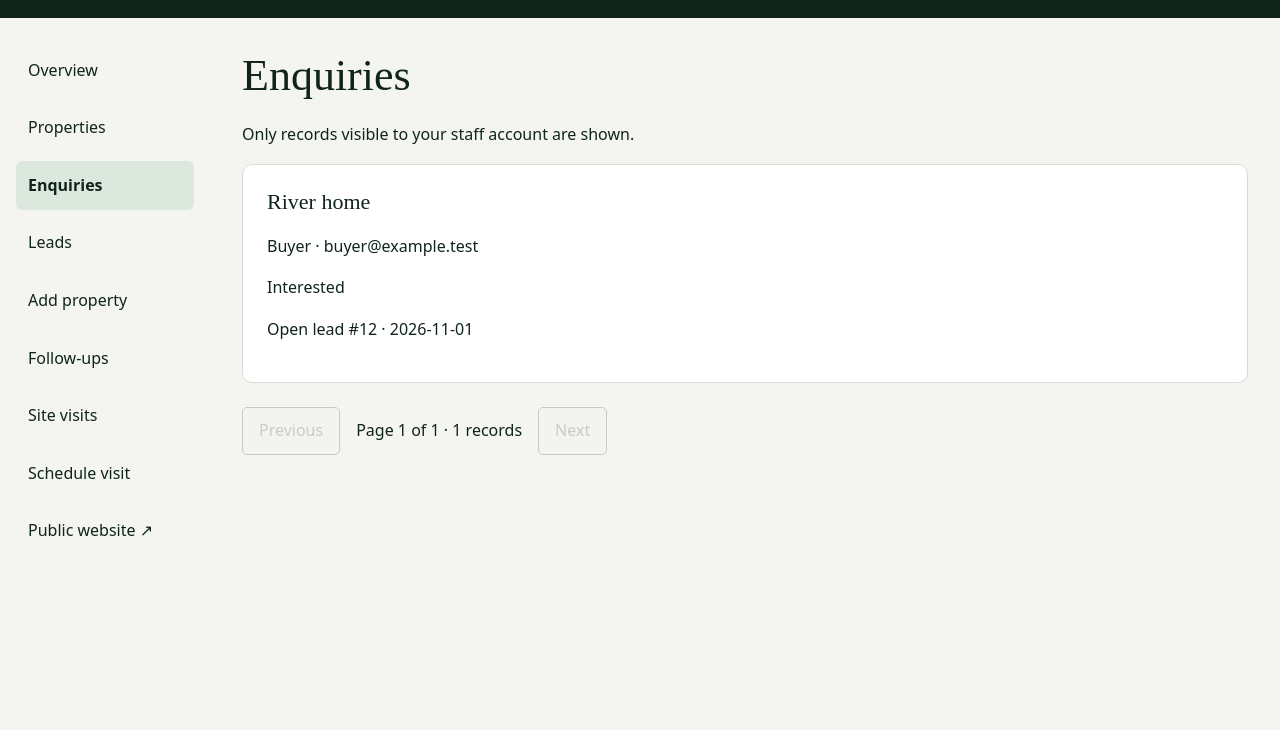
it: opens private detail from a linked enquiry and renders the buyer contact safely
What coordinates should you click on to do the following:
click the link "Open lead #12"
I would click on:
 (313, 329)
Its box is [267,318,377,340].
(page scrolled)
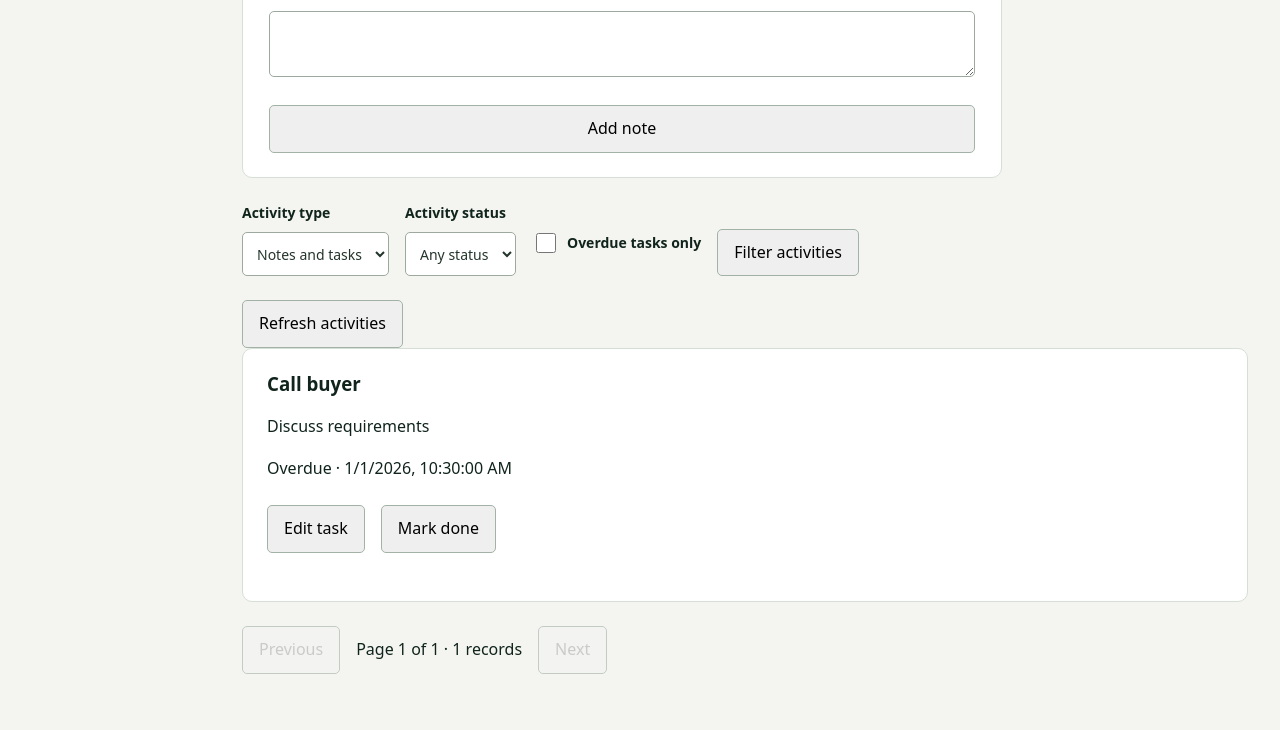
Expected: the text "Overdue · 1/1/2026, 10:30:00 AM" is shown, [267,457,512,479]
